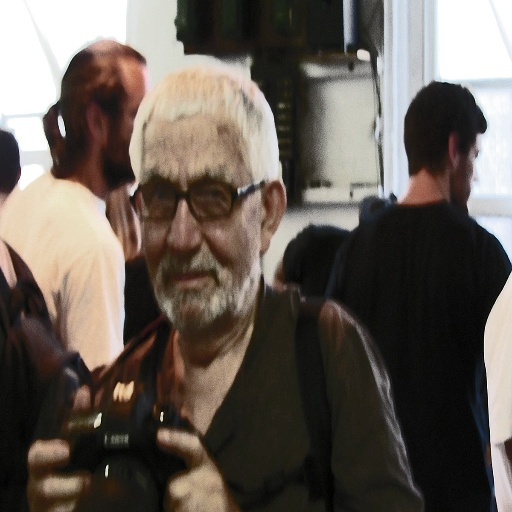hand: (155, 427, 235, 511), (19, 438, 82, 500)
